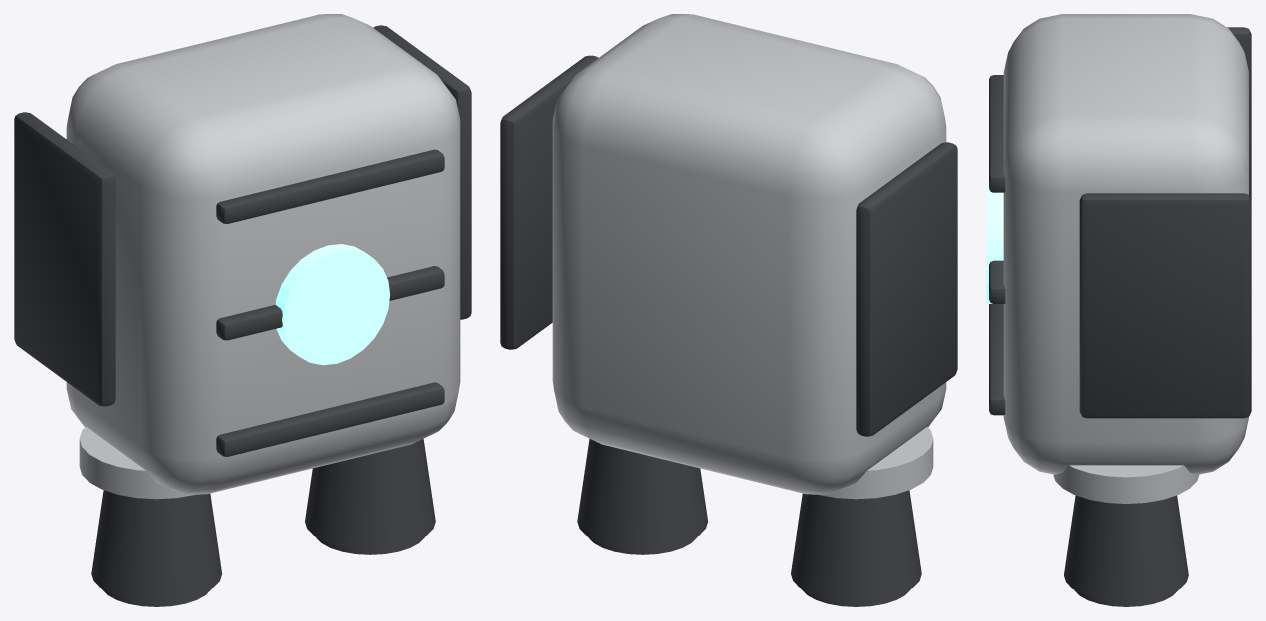
Rendered from booster.glb.
The picture shows the model from 3 angles, left to right: view 1: azimuth 30°, elevation 25°; view 2: azimuth 150°, elevation 25°; view 3: azimuth 270°, elevation 25°; orthographic projection. The views are drawn at different scales.
Parts seen in each view (by area): view 1: booster_body, core; view 2: booster_body; view 3: booster_body, core.
Part boxes in pixels (x1,y1,x2,y2): booster_body: [14, 14, 471, 606]; core: [275, 244, 389, 365]; booster_body: [500, 14, 957, 606]; booster_body: [989, 14, 1251, 606]; core: [986, 186, 1003, 303].
Size of the model in its own units: 0.084 by 0.105 by 0.054.
